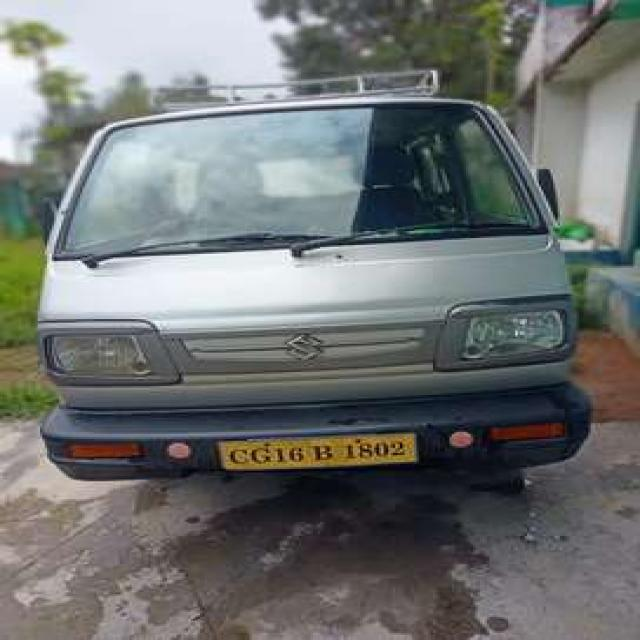Plate: (215, 431, 415, 470)
